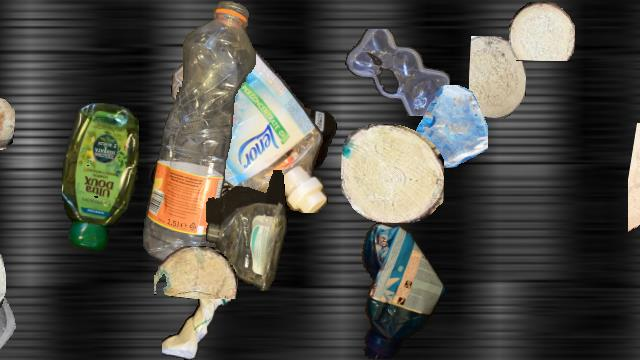glass: (405, 85, 487, 167), (0, 282, 29, 358)
plastic: (143, 1, 255, 265), (170, 40, 330, 212), (149, 111, 337, 247), (356, 221, 444, 359), (62, 103, 138, 251), (206, 170, 288, 292), (345, 29, 451, 115), (162, 275, 230, 359)
wood: (341, 124, 443, 222), (469, 36, 525, 118), (154, 246, 238, 298), (509, 2, 575, 60), (628, 123, 640, 239), (0, 98, 14, 150), (0, 218, 5, 340)
